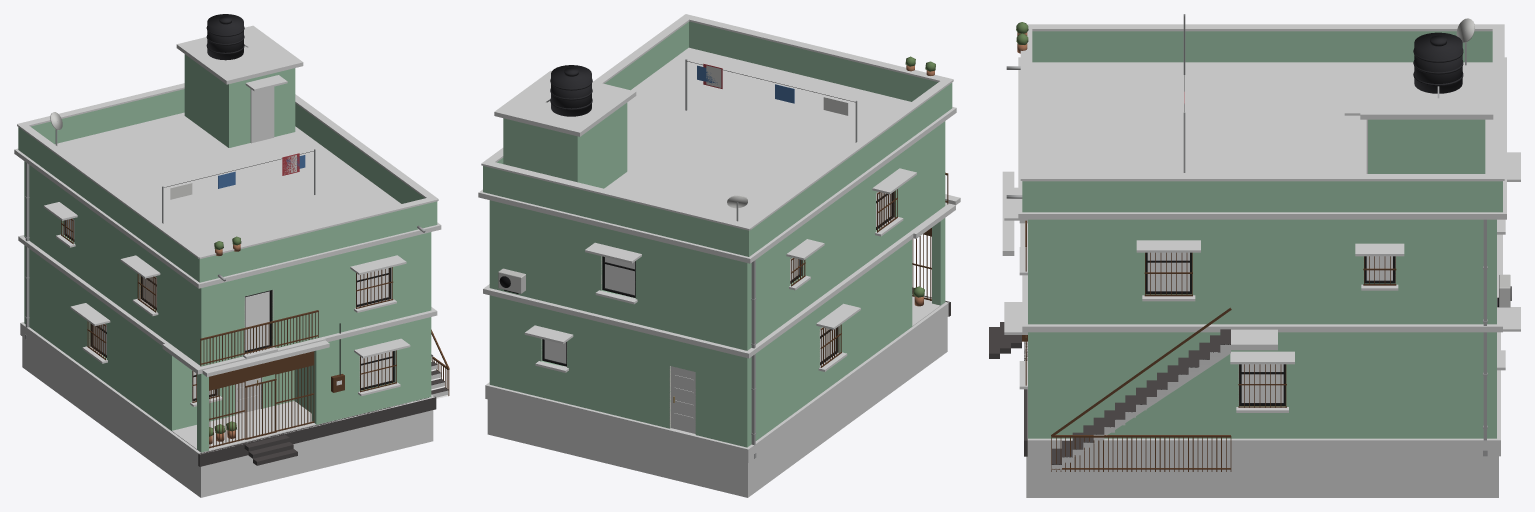
Rendered from tn_house_9x12_2.glb.
The picture shows the model from 3 angles, left to right: view 1: azimuth 30°, elevation 25°; view 2: azimuth 150°, elevation 25°; view 3: azimuth 270°, elevation 25°; orthographic projection. The views are drawn at different scales.
Visible parts, largest first — view 1: tn_house_9x12_2; view 2: tn_house_9x12_2; view 3: tn_house_9x12_2.
Boxes of the visible parts, x1,y1,x2,y2 form: tn_house_9x12_2: (14,14,449,497); tn_house_9x12_2: (478,14,960,497); tn_house_9x12_2: (989,14,1520,497).
Bounding box in the file's own units: 10.67 × 12 × 13.61.
